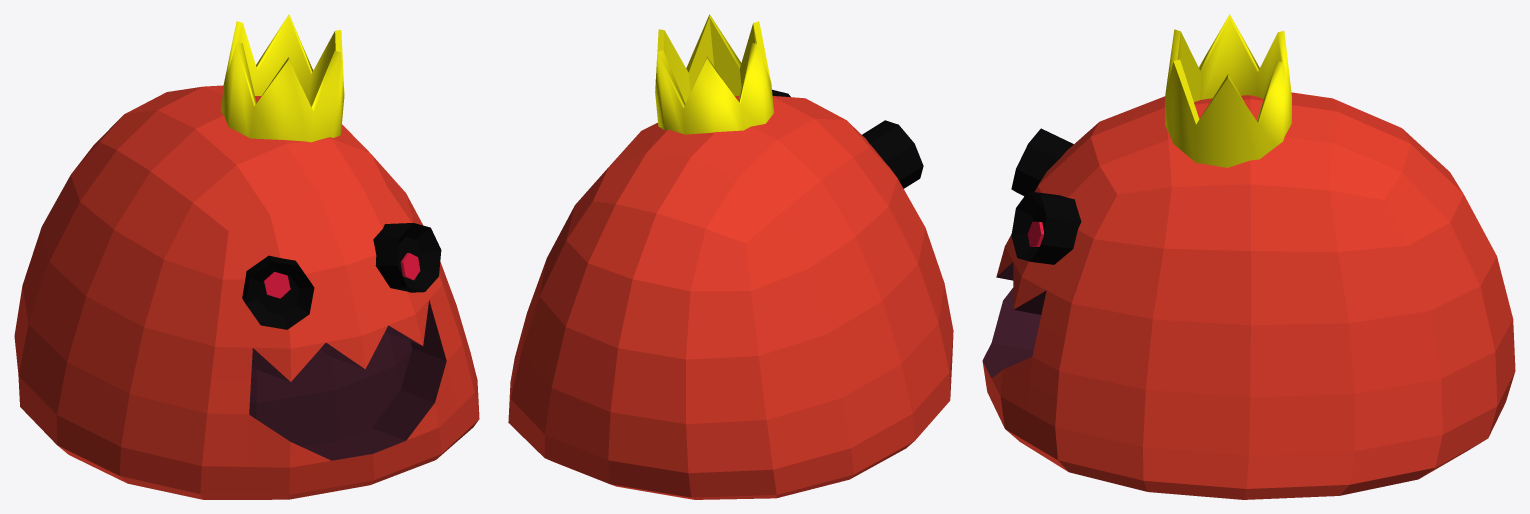
The model's file is SlimeBoss.fbx.
3 views of the same model, side by side, from view 1: azimuth 30°, elevation 25°; view 2: azimuth 150°, elevation 25°; view 3: azimuth 270°, elevation 25° (orthographic). The views are drawn at different scales.
Visible parts, largest first — view 1: BossSlime; view 2: BossSlime; view 3: BossSlime.
Boxes of the visible parts, <box> form: BossSlime: <box>14,14,479,499</box>; BossSlime: <box>508,14,953,499</box>; BossSlime: <box>982,14,1515,499</box>.
Bounding box in the file's own units: 801 × 757 × 931.
